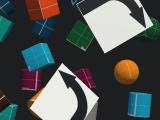Left: (30, 63, 99, 120)
Right: (76, 0, 154, 54)
